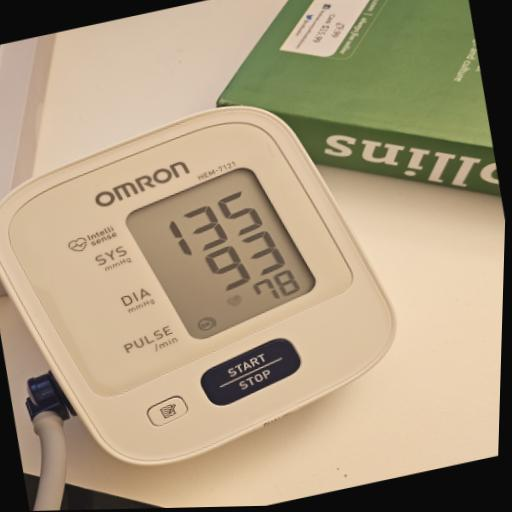lcd display: (115, 155, 327, 354)
